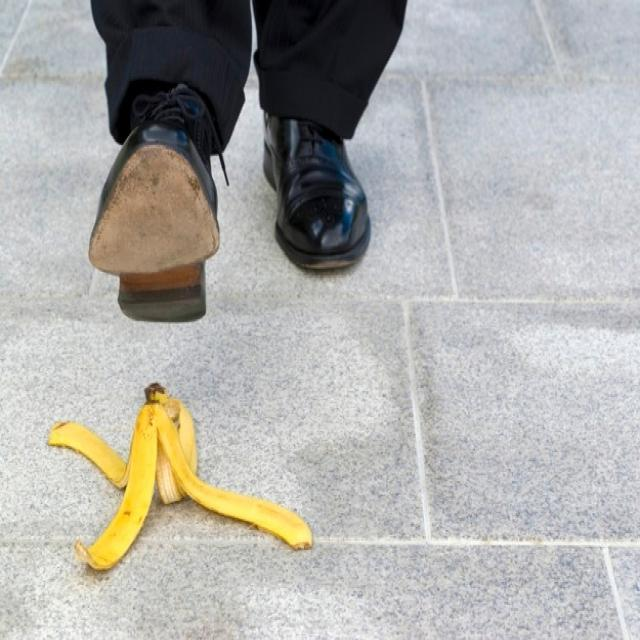banana-peel: (46, 381, 313, 571)
